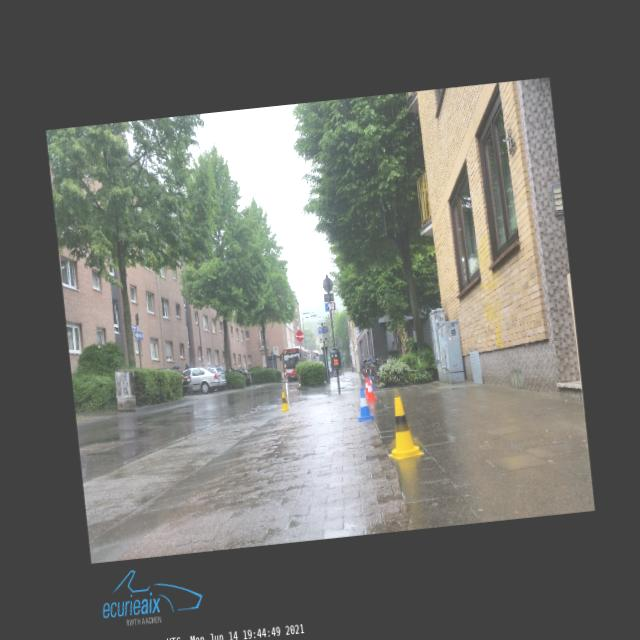blue_cone: (354, 386, 374, 421), (370, 375, 374, 389)
orange_cone: (364, 378, 376, 401), (362, 377, 368, 394)
yellow_cone: (382, 394, 423, 460), (278, 391, 290, 411)
